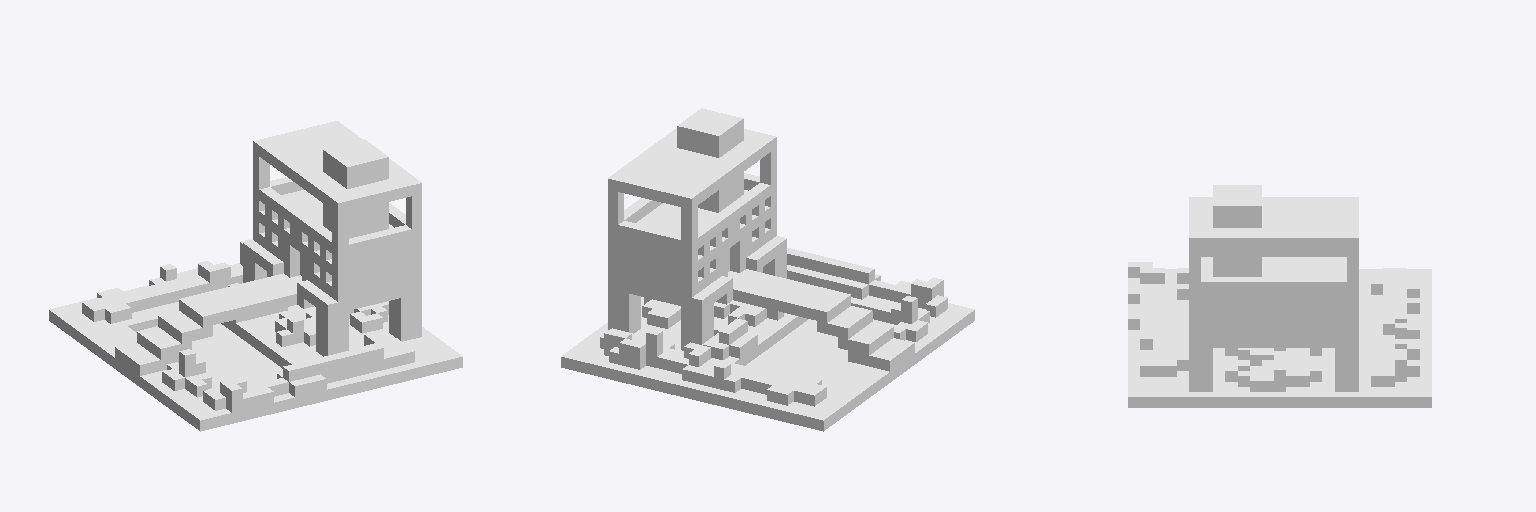
The model's file is build14.obj.
3 renders of one model, left to right at view 1: azimuth 30°, elevation 25°; view 2: azimuth 150°, elevation 25°; view 3: azimuth 270°, elevation 25°, orthographic.
Size of the model in its own units: 25 by 18 by 25.